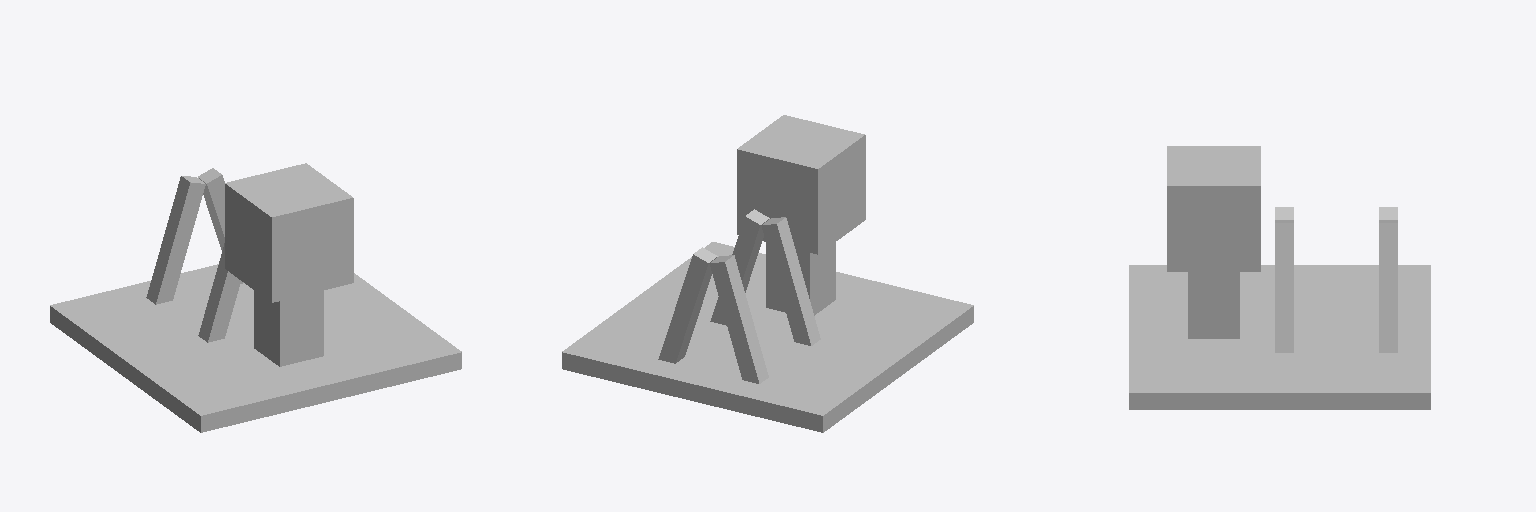
File: handcranked_generator_base.obj
3 views of the same model, side by side, from view 1: azimuth 30°, elevation 25°; view 2: azimuth 150°, elevation 25°; view 3: azimuth 270°, elevation 25° (orthographic).
Visible parts, largest first — view 1: base; view 2: base; view 3: base.
Part boxes in pixels (left/top/right/bottom): base: left=50, top=163, right=461, bottom=432; base: left=562, top=115, right=973, bottom=432; base: left=1129, top=146, right=1430, bottom=409.
Size of the model in its own units: 1 by 0.6562 by 1.